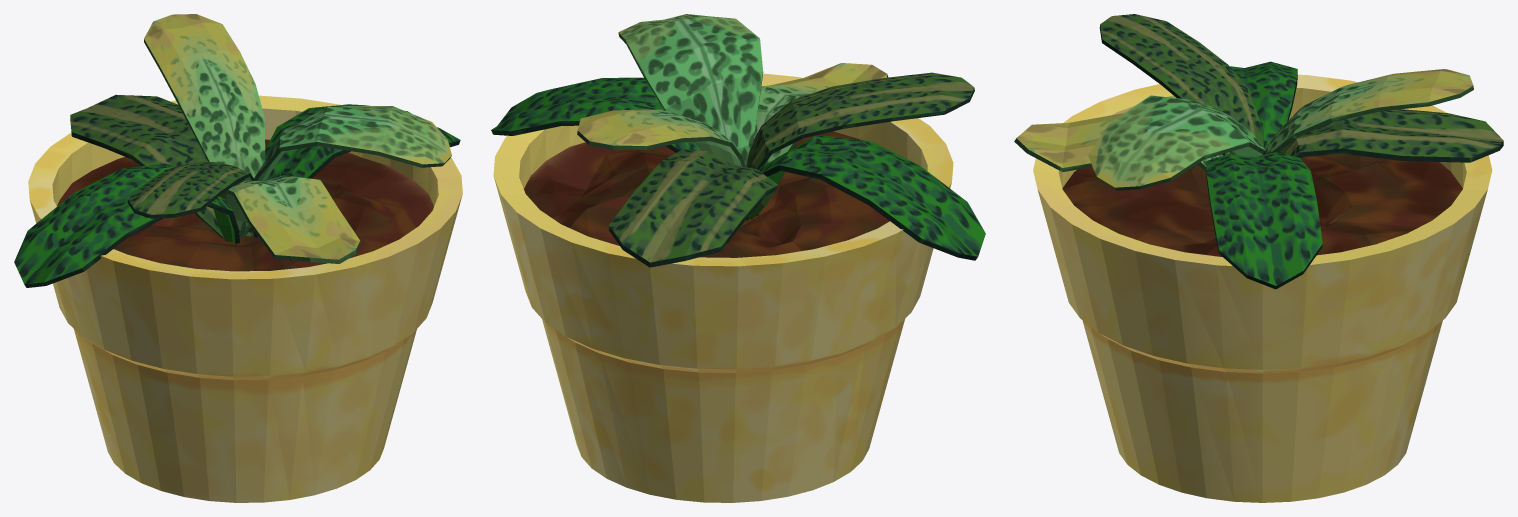
The model's file is Phalaenopsis_Bad_End.glb.
The picture shows the model from 3 angles, left to right: view 1: azimuth 30°, elevation 25°; view 2: azimuth 150°, elevation 25°; view 3: azimuth 270°, elevation 25°; orthographic projection. The views are drawn at different scales.
Visible parts, largest first — view 1: Pot, Plant; view 2: Pot, Plant; view 3: Pot, Plant.
Boxes of the visible parts, x1,y1,x2,y2 form: Pot: (28,95,462,502); Plant: (14,14,460,287); Pot: (493,73,953,502); Plant: (491,14,985,267); Pot: (1033,74,1492,502); Plant: (1014,14,1503,289).
Size of the model in its own units: 2.39 by 1.84 by 2.18.
5 materials, 5 textured.
